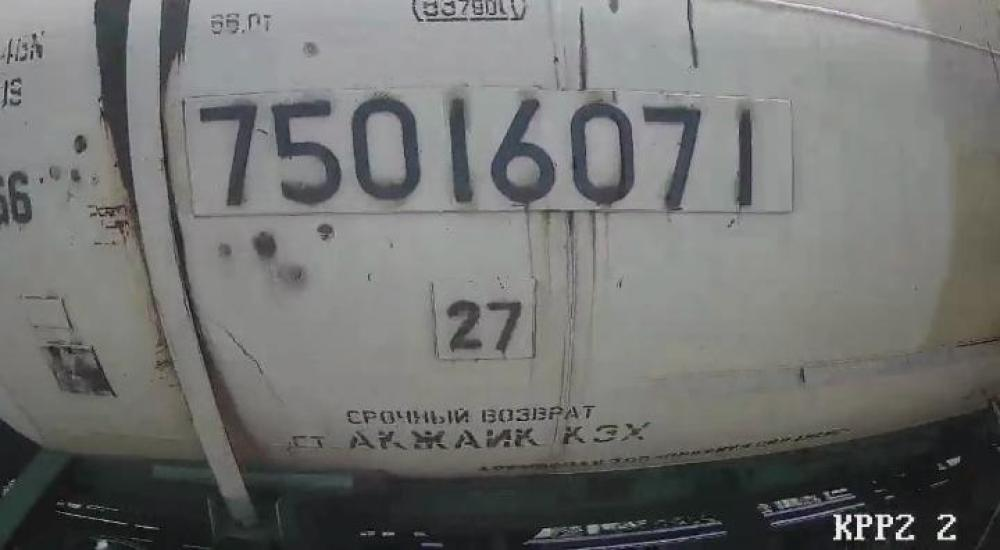Wagon-number: (187, 86, 757, 218)
